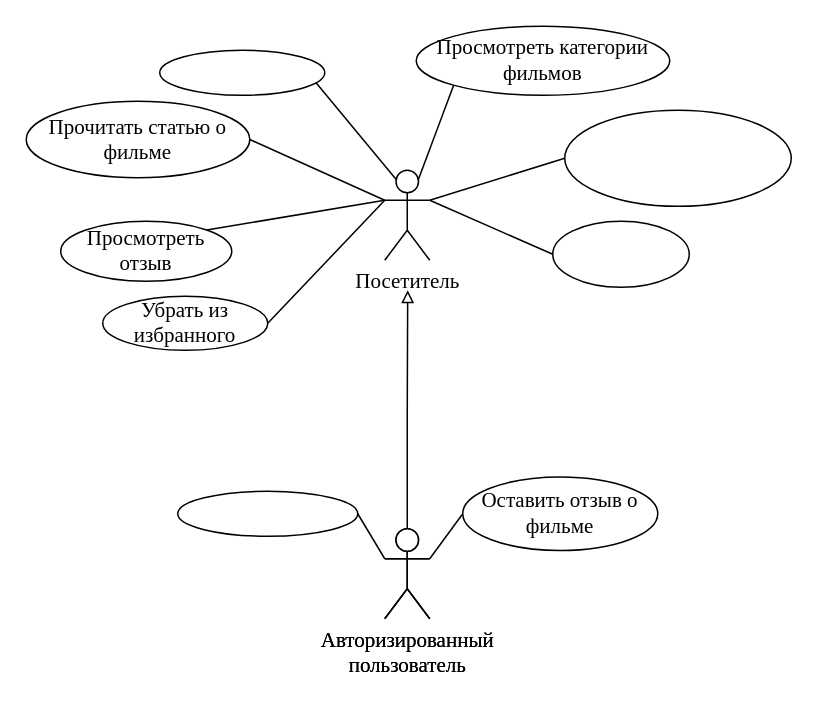
Some shapes in this 818 by 707 pixel diagram are drawn without their labels. Here are the shapes that lost their labels. From the top down, the centre of each, then its label:
(x=241, y=72): Авторизоваться
(x=677, y=157): Воспользоваться поиском в приложении
(x=620, y=253): Добавить в избранное
(x=267, y=513): Деавторизация
